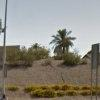Tree: (42, 18, 84, 61)
